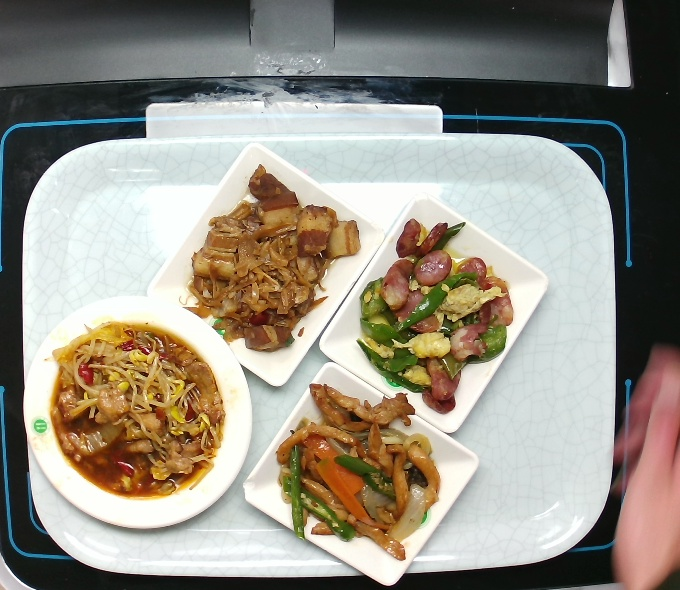wcq-HongShaoRou: (174, 162, 365, 358)
wcq-QingJiaoChaoDaChang: (353, 216, 520, 417)
wcq-QingJiaoRouSi: (272, 379, 447, 565)
wcq-ShuiZhuRouPian: (43, 315, 230, 503)
